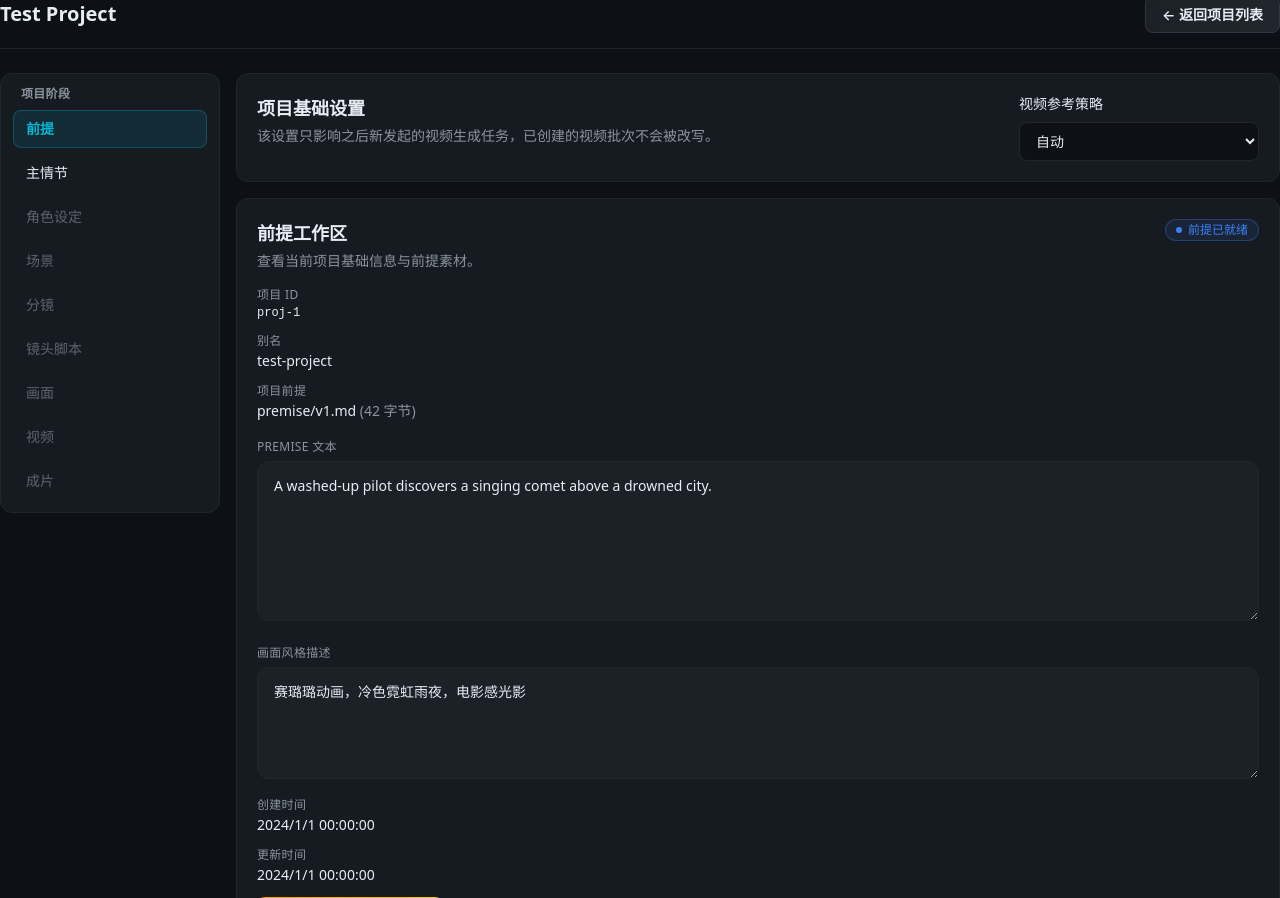
Test case: Project Detail Page › starts master-plot regeneration from the master-plot panel
Click the button "主情节" at (110, 173), box [13, 154, 207, 192]
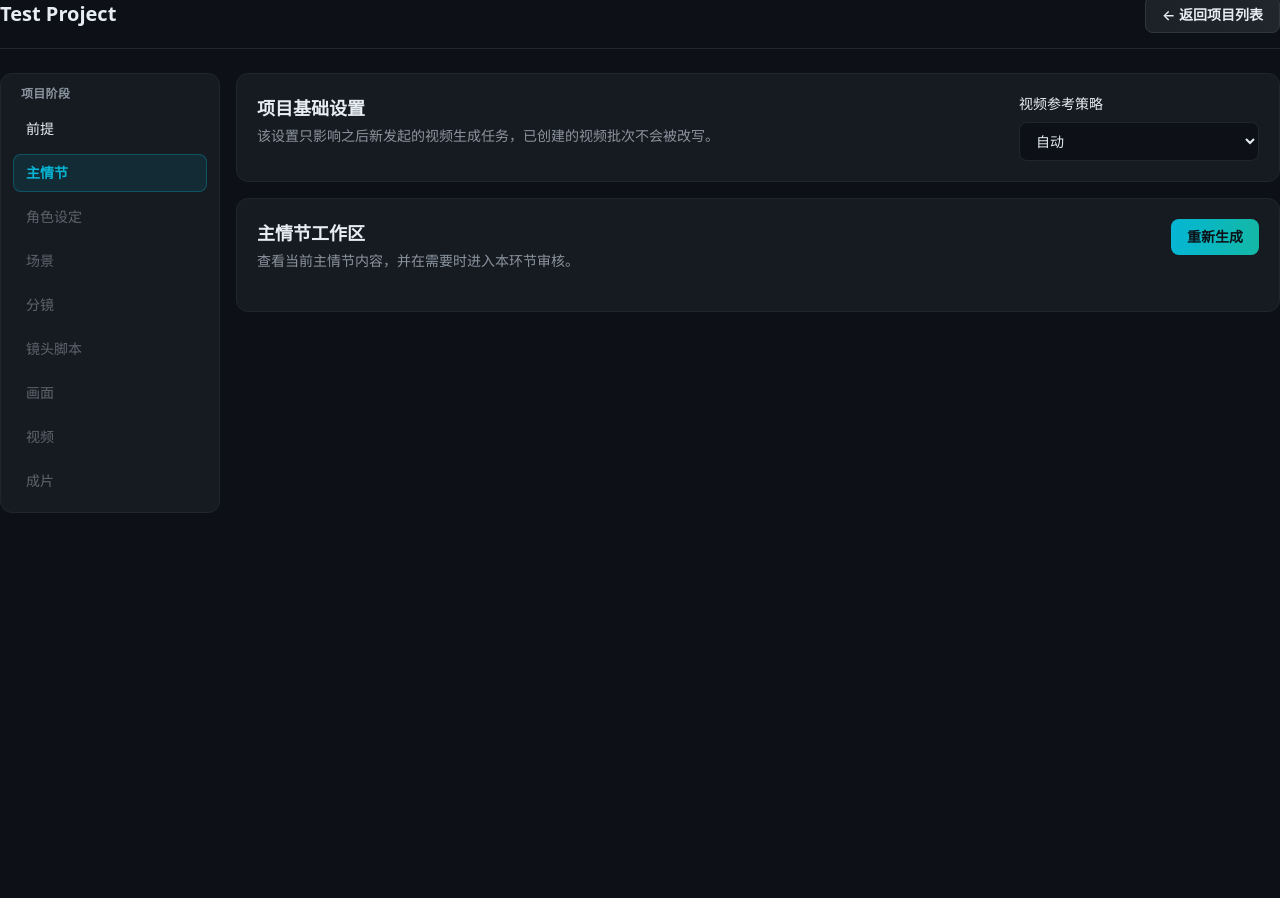
Check: the heading "主情节工作区" is shown, box [257, 221, 365, 245]
Click the button "重新生成" at (1215, 237), box [1171, 219, 1259, 255]
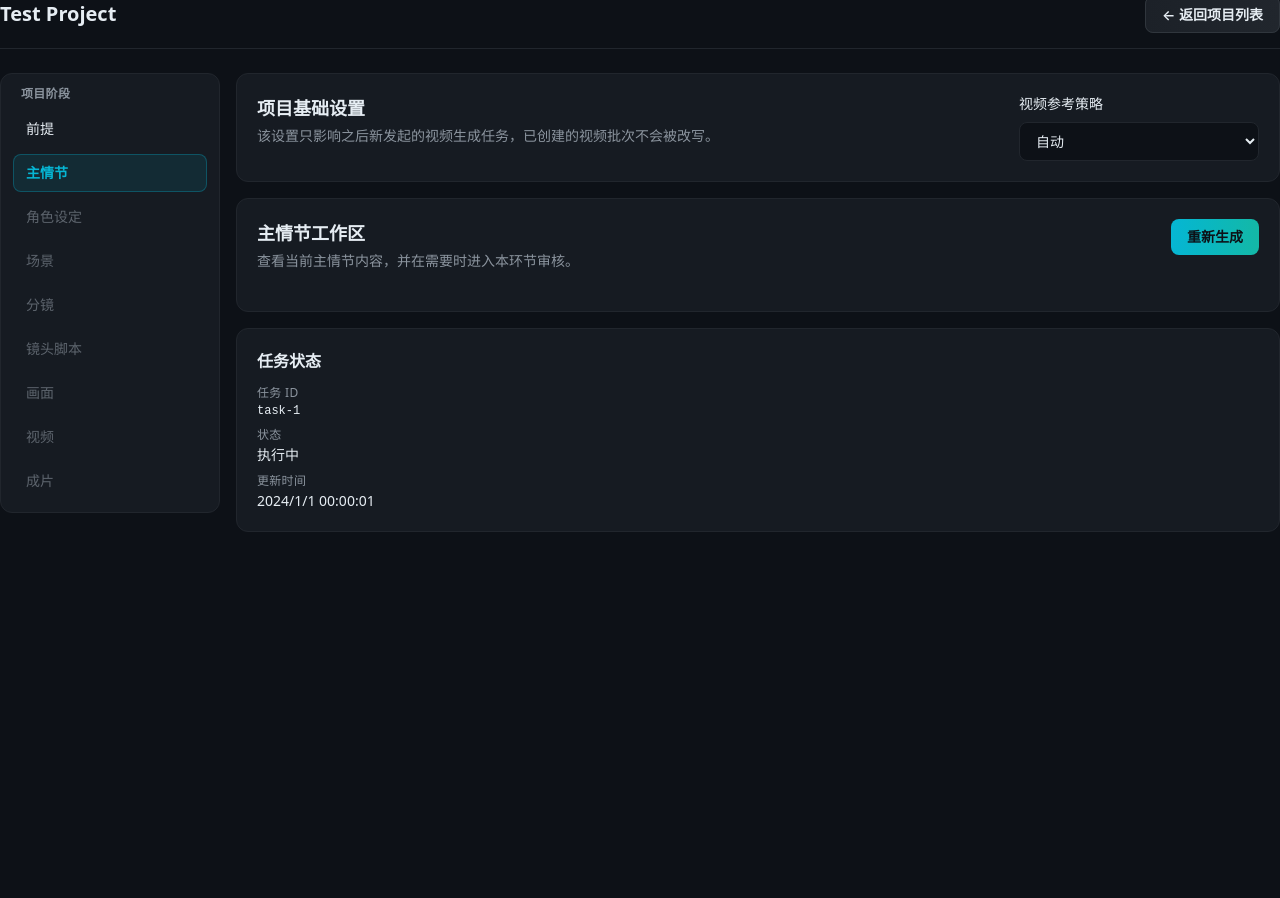
Check: the heading "任务状态" is shown, box [257, 350, 321, 372]
Check: the text "执行中" is shown, box [257, 445, 299, 464]
